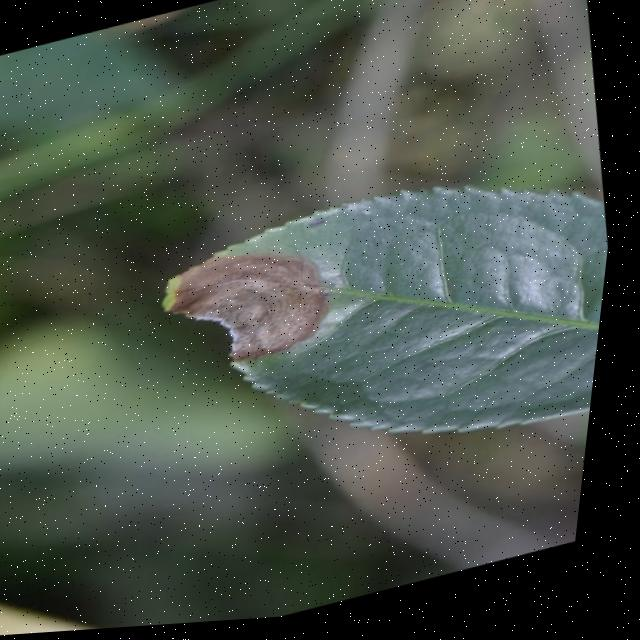Tea cloud leaf blight: (161, 235, 352, 387)
